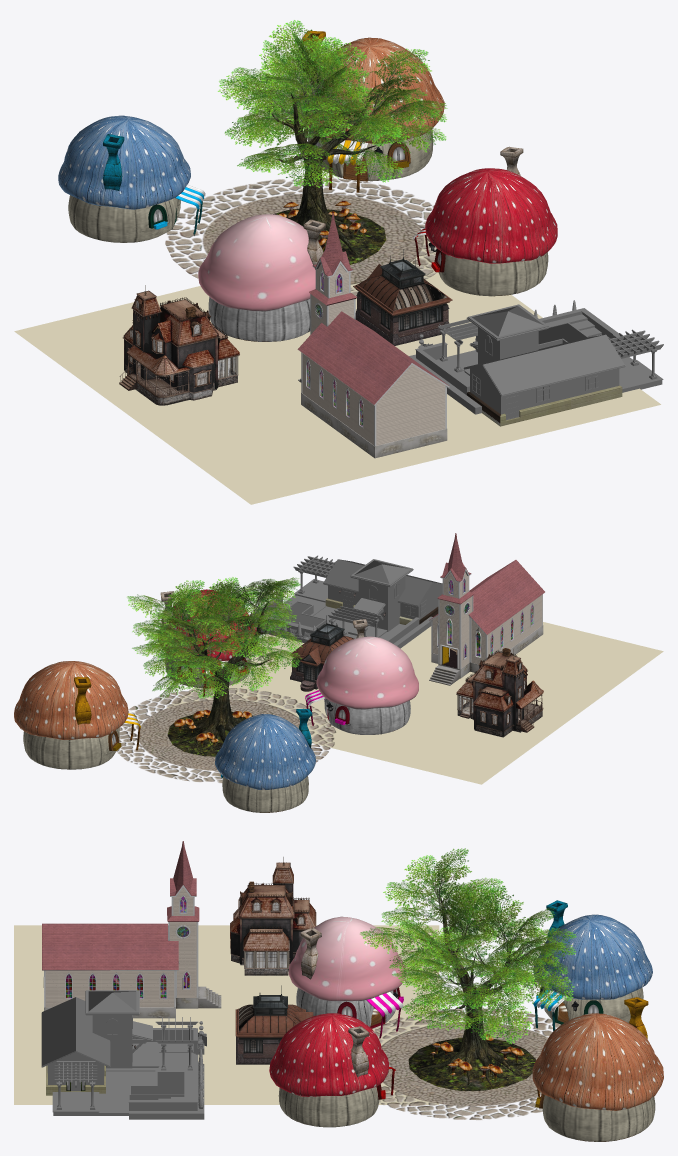
3 renders of one model, top to bottom at view 1: azimuth 30°, elevation 25°; view 2: azimuth 150°, elevation 25°; view 3: azimuth 270°, elevation 25°, orthographic. The views are drawn at different scales.
Parts seen in each view (by area): view 1: maison champignon 03 (×9), Terrain 7,0, Arvore legal com boa base, The Little Chapel, House (×10), prim10-mesh (×5), Bosque-primavera-arbol (×3), prim0-mesh_0 (×3); view 2: maison champignon 03 (×9), Terrain 7,0, Arvore legal com boa base, House (×12), The Little Chapel (×2), prim10-mesh (×5), Bosque-primavera-arbol (×3), prim0-mesh_0 (×2); view 3: maison champignon 03 (×11), Arvore legal com boa base, Terrain 7,0, House (×14), The Little Chapel (×3), Bosque-primavera-arbol (×3), prim10-mesh (×6), prim0-mesh_0 (×3), toldo otimo.
Boxes of the visible parts, x1,y1,x2,y2 form: maison champignon 03 (×9): (58,37,557,341); Terrain 7,0: (14,235,660,504); Arvore legal com boa base: (165,20,447,296); The Little Chapel: (297,213,449,458); House (×10): (409,304,663,426); prim10-mesh (×5): (119,291,239,405); Bosque-primavera-arbol (×3): (267,91,386,264); prim0-mesh_0 (×3): (353,264,452,337); maison champignon 03 (×9): (14,589,418,812); Terrain 7,0: (166,622,663,784); Arvore legal com boa base: (116,577,336,783); House (×12): (251,555,442,648); The Little Chapel (×2): (429,533,544,685); prim10-mesh (×5): (456,652,543,737); Bosque-primavera-arbol (×3): (167,602,272,756); prim0-mesh_0 (×2): (293,615,354,664); maison champignon 03 (×11): (269,914,663,1141); Arvore legal com boa base: (360,848,576,1120); Terrain 7,0: (14,925,439,1104); House (×14): (41,990,204,1119); The Little Chapel (×3): (42,841,221,1018); Bosque-primavera-arbol (×3): (408,896,535,1090); prim10-mesh (×6): (230,862,315,975); prim0-mesh_0 (×3): (235,985,313,1039); toldo otimo: (366,992,403,1016).
Size of the model in its own units: 79.5 by 33.11 by 97.79.
Materials: 227 (221 with a texture image).
